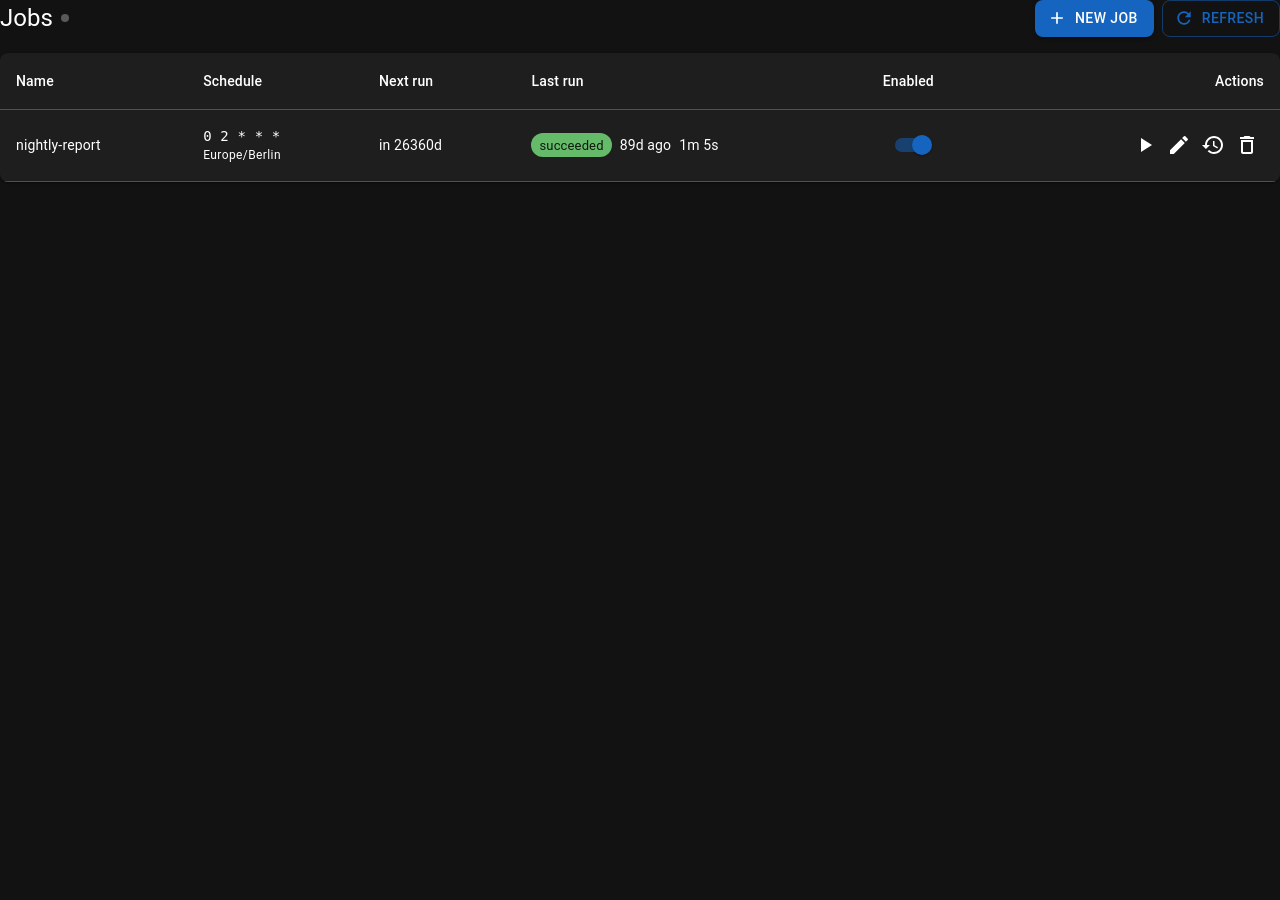
Test: JobsPage › Run now shows the 409 run_active message
Click the button named "run nightly-report now" at (1145, 146), box [1128,128,1162,162]
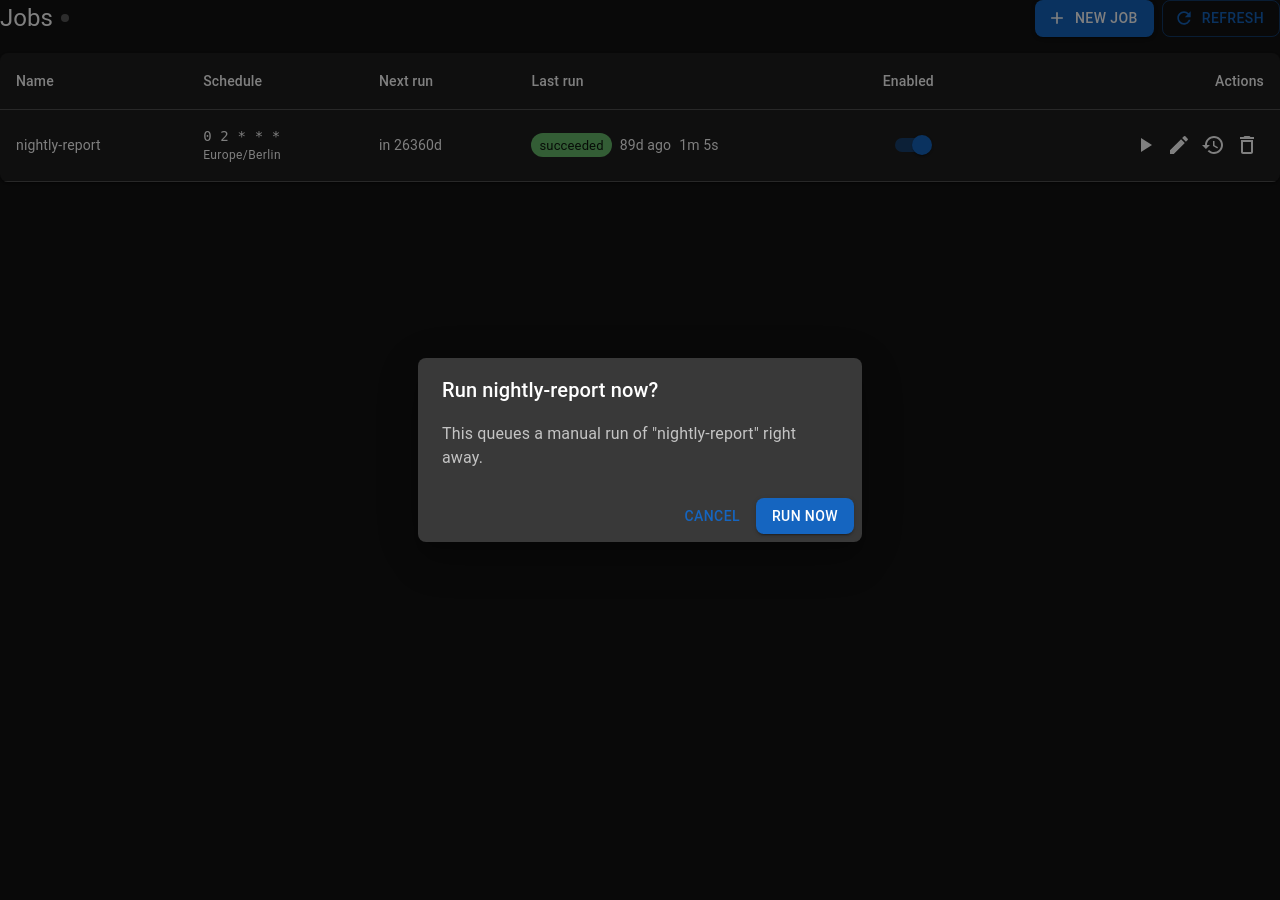
Click the button "Run now" at (805, 516), box [756,498,854,534]
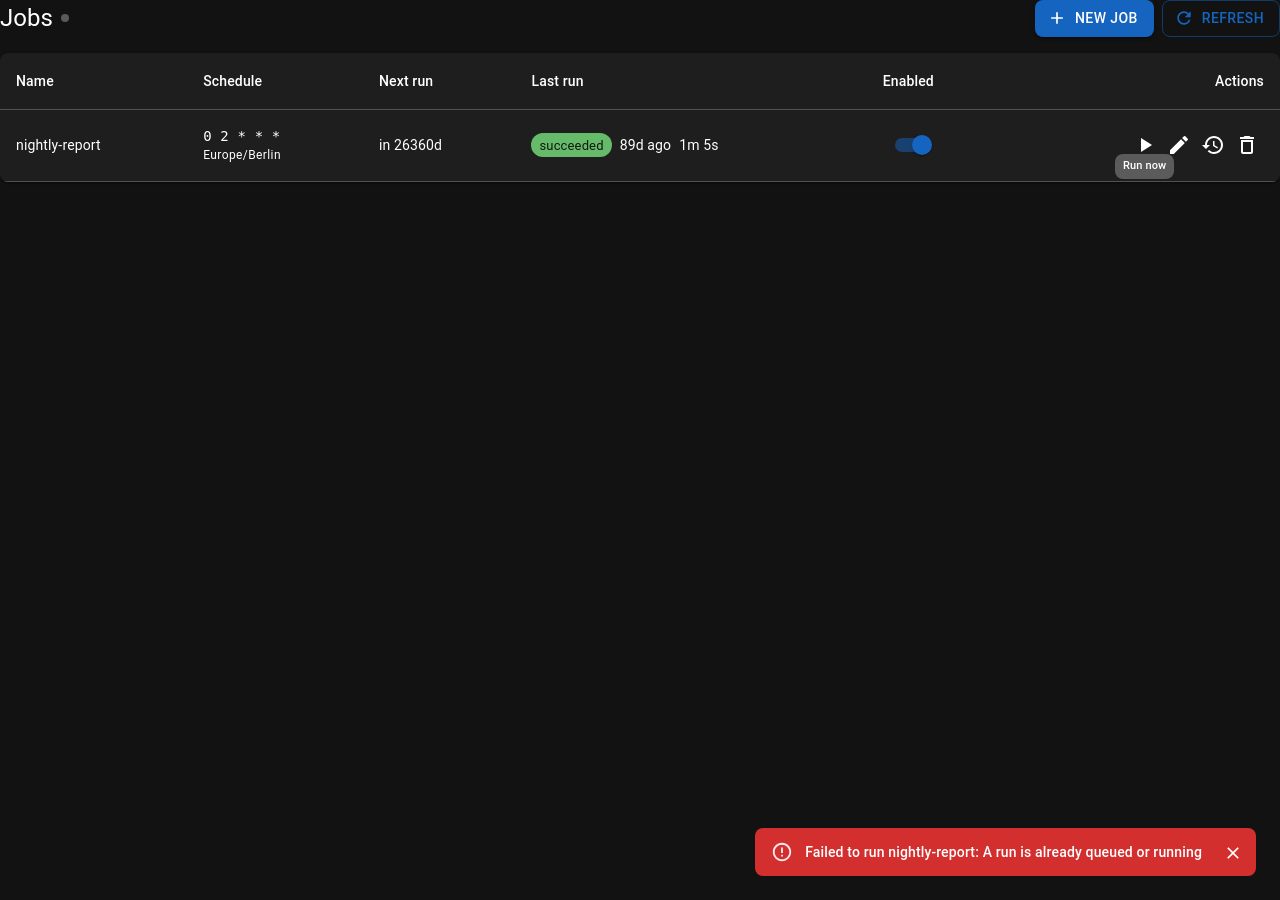
Now the text "Failed to run nightly-report: A run is already queued or running" is shown, box [805,844,1202,860]
